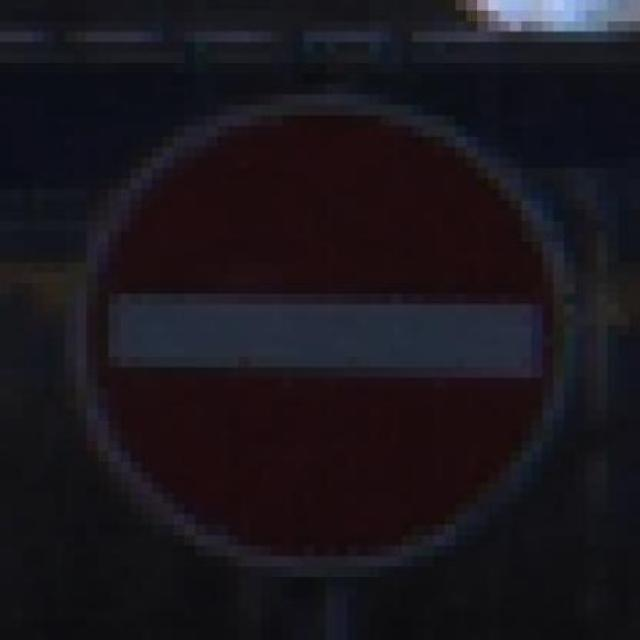No Entry: (42, 86, 596, 591)
